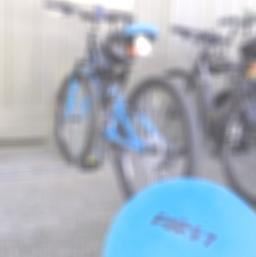algae: (97, 170, 256, 257)
